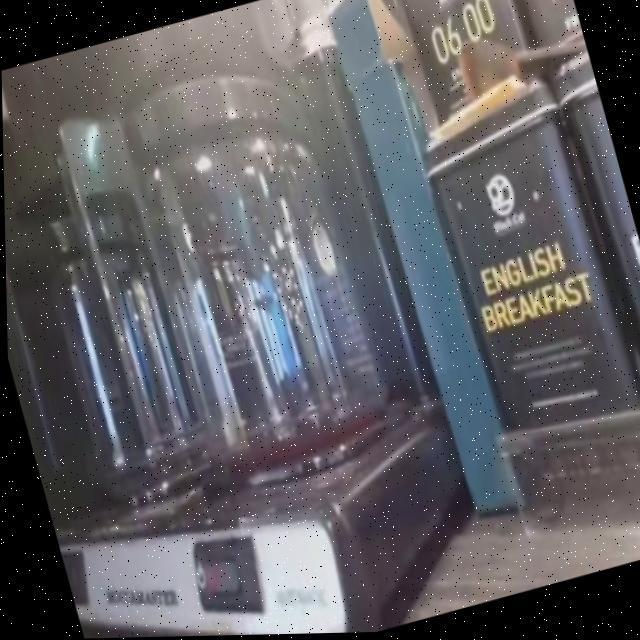nocoffee: (135, 138, 397, 467), (39, 243, 200, 497)
